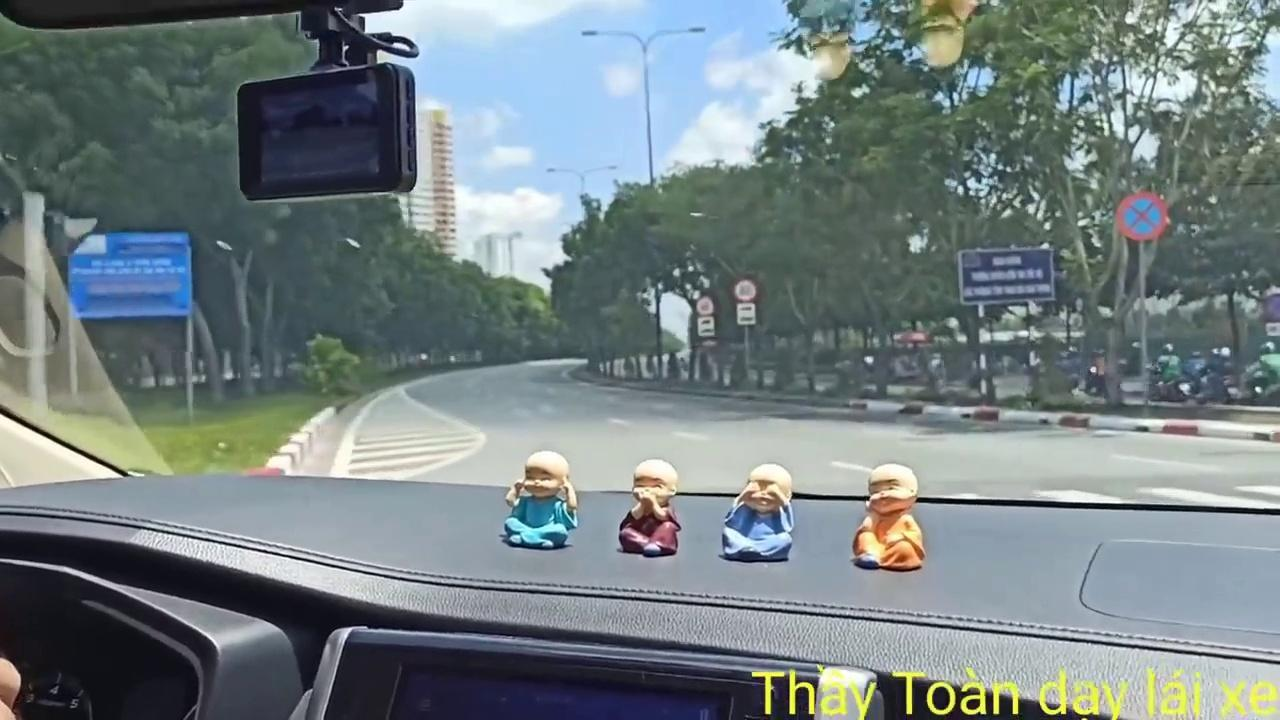Biển phụ: (736, 302, 757, 326), (697, 316, 716, 338)
Cấm dừng - Cấm đỗ: (1115, 191, 1168, 242)
Giới hạn tốc độ 80Km/h: (733, 278, 757, 300), (694, 294, 714, 315)
Khác: (66, 231, 194, 319)
